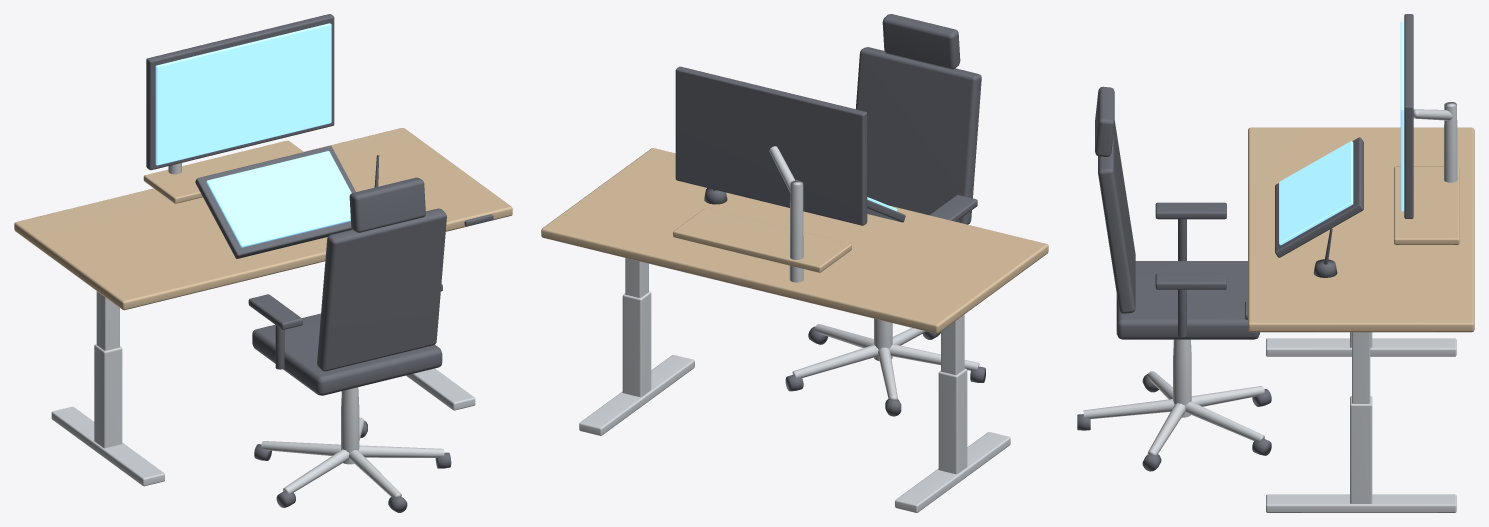
File: webtoon-creator-ergonomic-chair-desk-v13.glb
3 views of the same model, side by side, from view 1: azimuth 30°, elevation 25°; view 2: azimuth 150°, elevation 25°; view 3: azimuth 270°, elevation 25° (orthographic). The views are drawn at different scales.
Visible parts, largest first — view 1: CreatorChairAndDevices, CreatorMotionDeskTop, CreatorDisplayScreens, CreatorAlloyHardware; view 2: CreatorChairAndDevices, CreatorMotionDeskTop, CreatorAlloyHardware; view 3: CreatorMotionDeskTop, CreatorChairAndDevices, CreatorAlloyHardware, CreatorDisplayScreens.
Boxes of the visible parts, x1=… form: CreatorChairAndDevices: x1=146, y1=14, x2=493, y2=512; CreatorMotionDeskTop: x1=14, y1=128, x2=512, y2=310; CreatorDisplayScreens: x1=155, y1=23, x2=351, y2=247; CreatorAlloyHardware: x1=51, y1=163, x2=475, y2=498; CreatorChairAndDevices: x1=675, y1=14, x2=985, y2=416; CreatorMotionDeskTop: x1=541, y1=148, x2=1048, y2=333; CreatorAlloyHardware: x1=579, y1=146, x2=1010, y2=512; CreatorMotionDeskTop: x1=1248, y1=127, x2=1474, y2=332; CreatorChairAndDevices: x1=1077, y1=14, x2=1413, y2=471; CreatorAlloyHardware: x1=1083, y1=102, x2=1457, y2=512; CreatorDisplayScreens: x1=1279, y1=21, x2=1404, y2=245.
Bounding box in the file's own units: 1.56 × 1.37 × 1.33.
